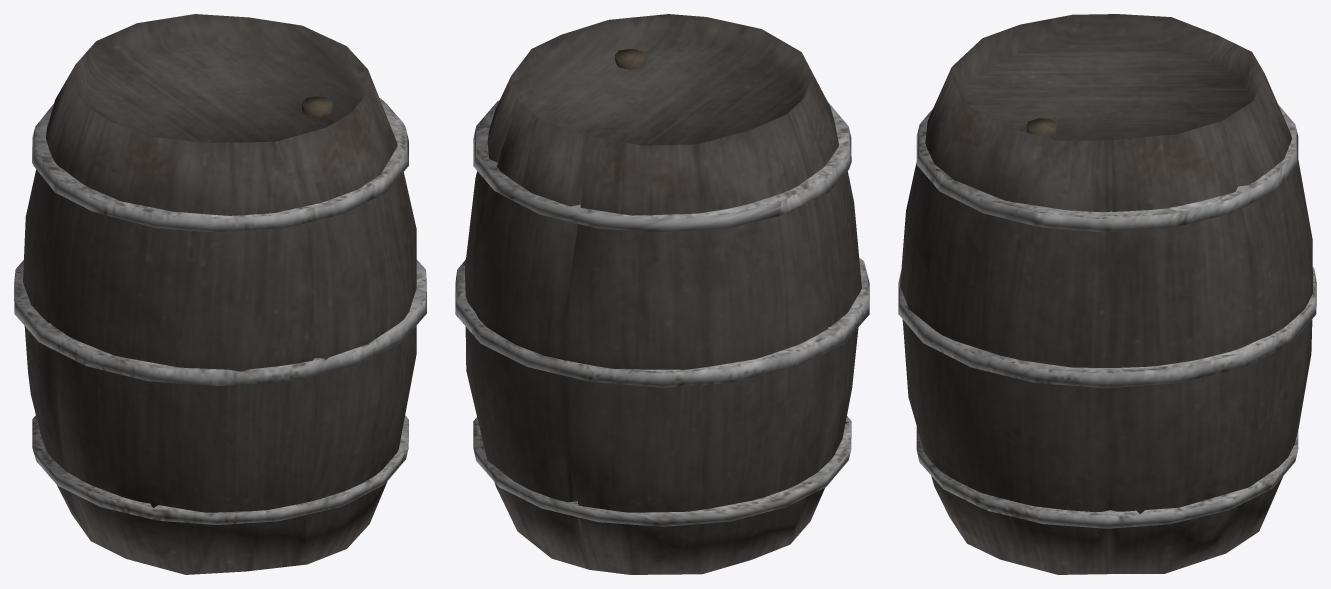
The model's file is Barrique.FBX.
3 renders of one model, left to right at view 1: azimuth 30°, elevation 25°; view 2: azimuth 150°, elevation 25°; view 3: azimuth 270°, elevation 25°, orthographic.
Visible parts, largest first — view 1: Group15792; view 2: Group15792; view 3: Group15792.
Part boxes in pixels (left/top/right/bottom): Group15792: left=14, top=14, right=426, bottom=574; Group15792: left=455, top=14, right=869, bottom=574; Group15792: left=898, top=14, right=1316, bottom=574.
Size of the model in its own units: 553 by 631 by 544.
1 material, 1 textured.
